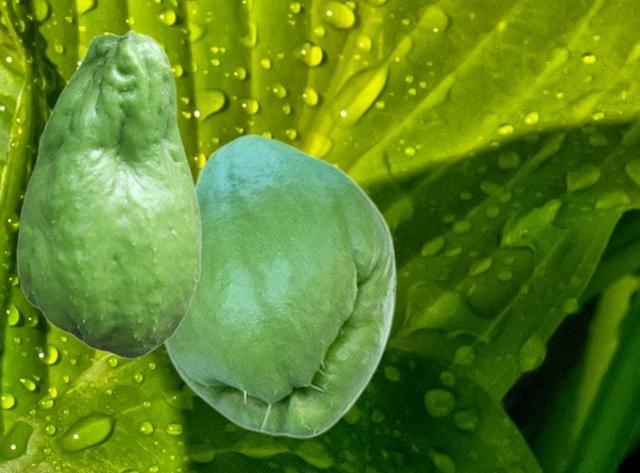sayote: (162, 134, 396, 439), (16, 29, 201, 358)
